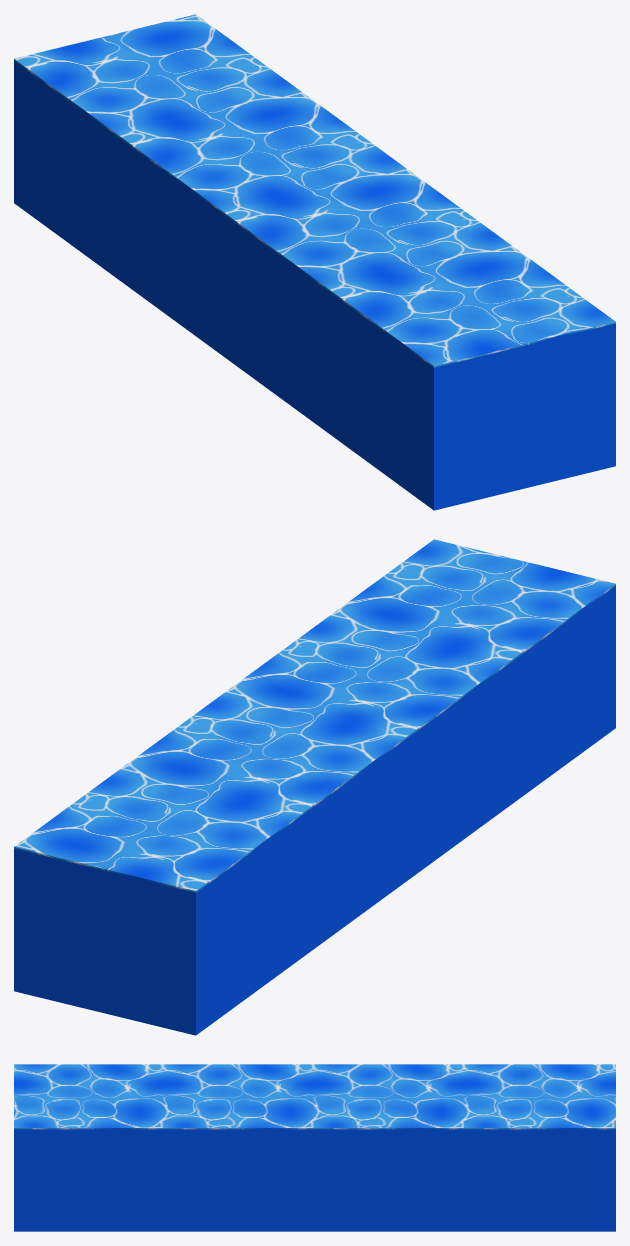
The model's file is MG-ChJ-CS-09ShuiMian-4.FBX.
The picture shows the model from 3 angles, top to bottom: view 1: azimuth 30°, elevation 25°; view 2: azimuth 150°, elevation 25°; view 3: azimuth 270°, elevation 25°; orthographic projection. The views are drawn at different scales.
Visible parts, largest first — view 1: MG-ChJ-CS-09ShuiMian-4; view 2: MG-ChJ-CS-09ShuiMian-4; view 3: MG-ChJ-CS-09ShuiMian-4.
Part boxes in pixels (left/top/right/bottom): MG-ChJ-CS-09ShuiMian-4: left=14, top=14, right=615, bottom=510; MG-ChJ-CS-09ShuiMian-4: left=14, top=539, right=615, bottom=1035; MG-ChJ-CS-09ShuiMian-4: left=14, top=1064, right=615, bottom=1231.
Bounding box in the file's own units: 39.37 × 29.88 × 157.
